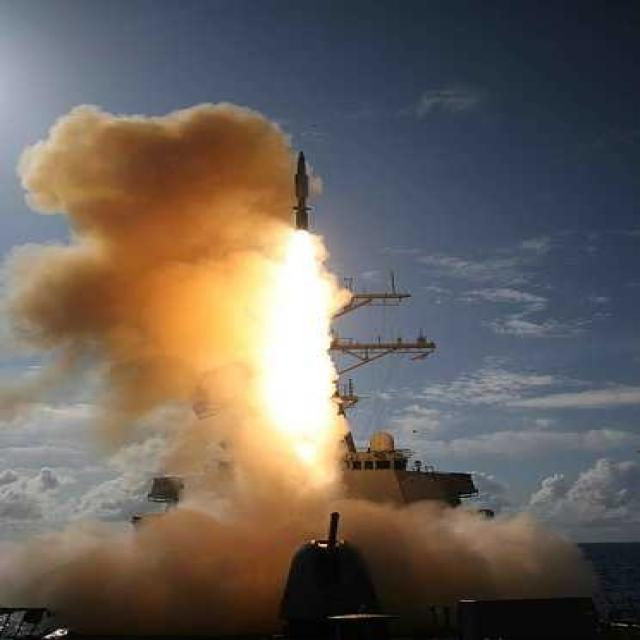missile: (284, 148, 324, 264)
